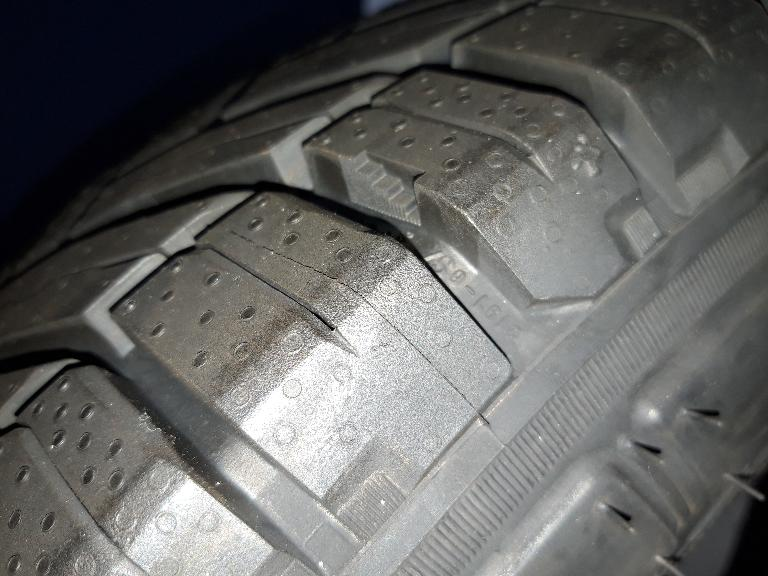temoin:100: (337, 147, 430, 230)
